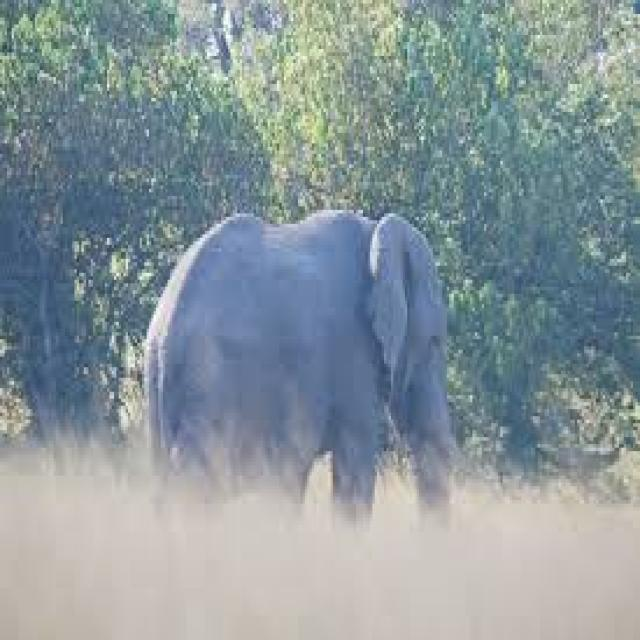Elephant: (142, 206, 458, 535)
